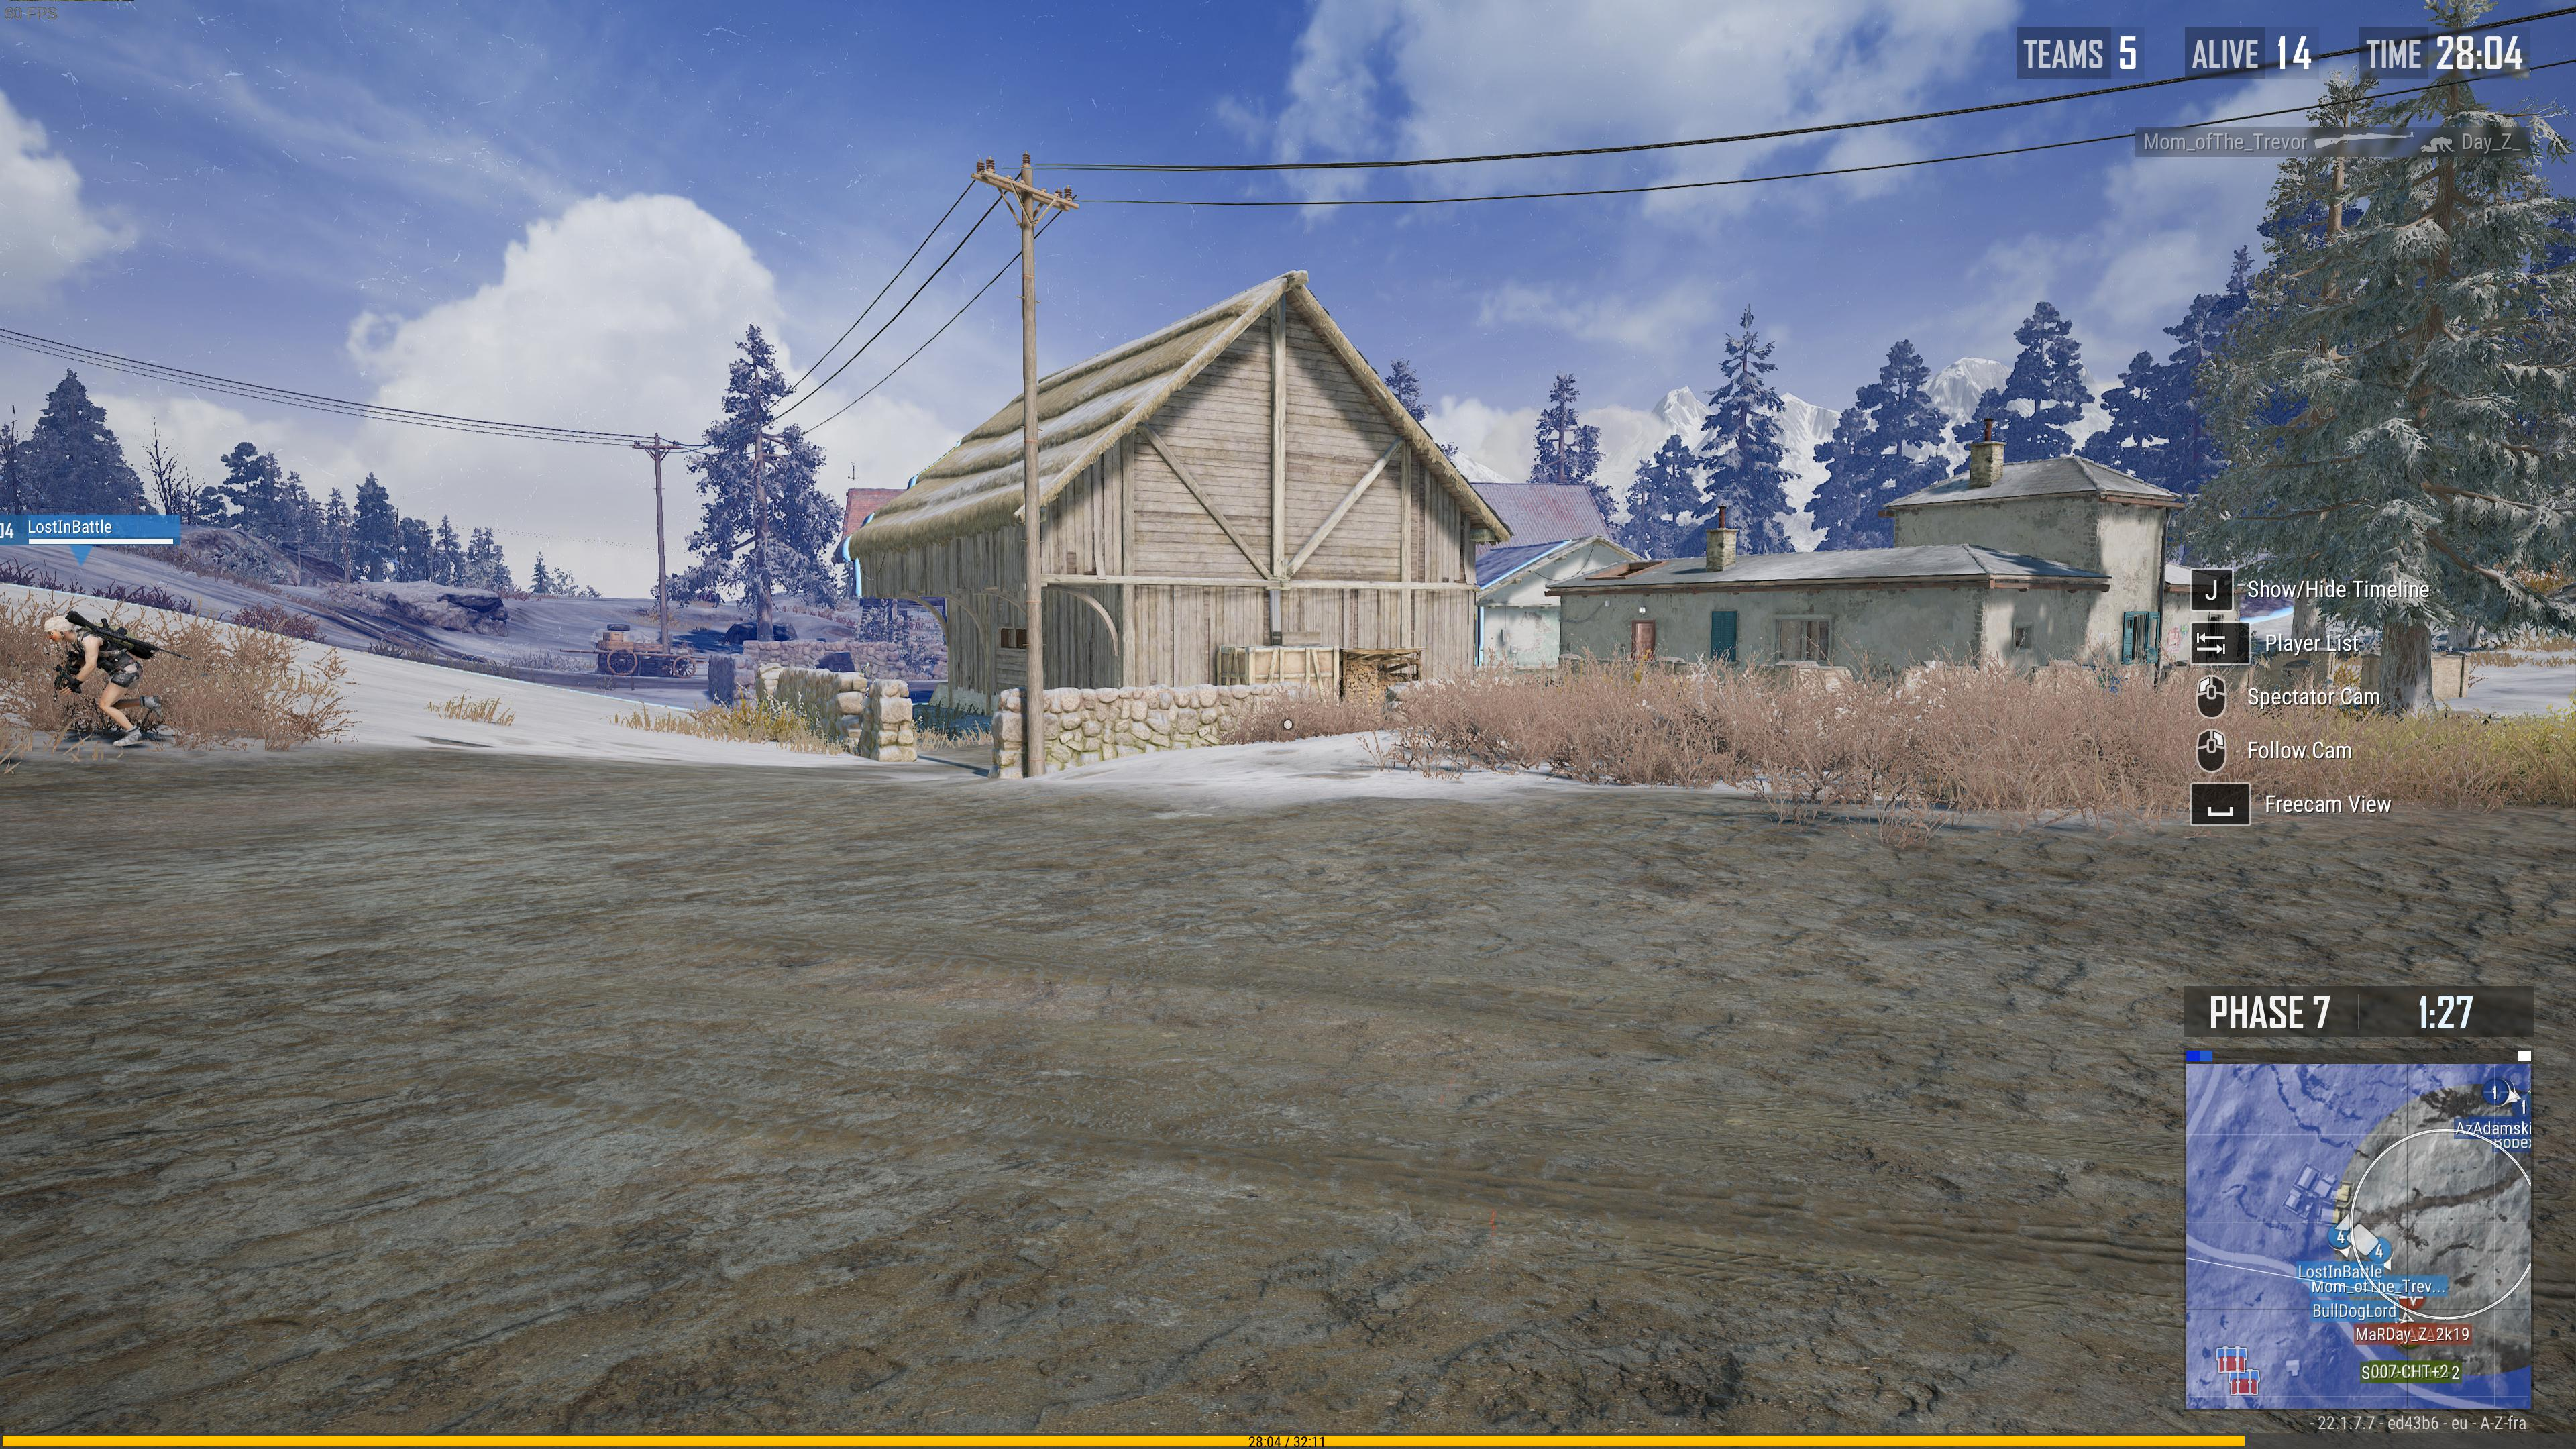enemy: (44, 614, 163, 747)
enemy_head: (44, 616, 74, 642)
